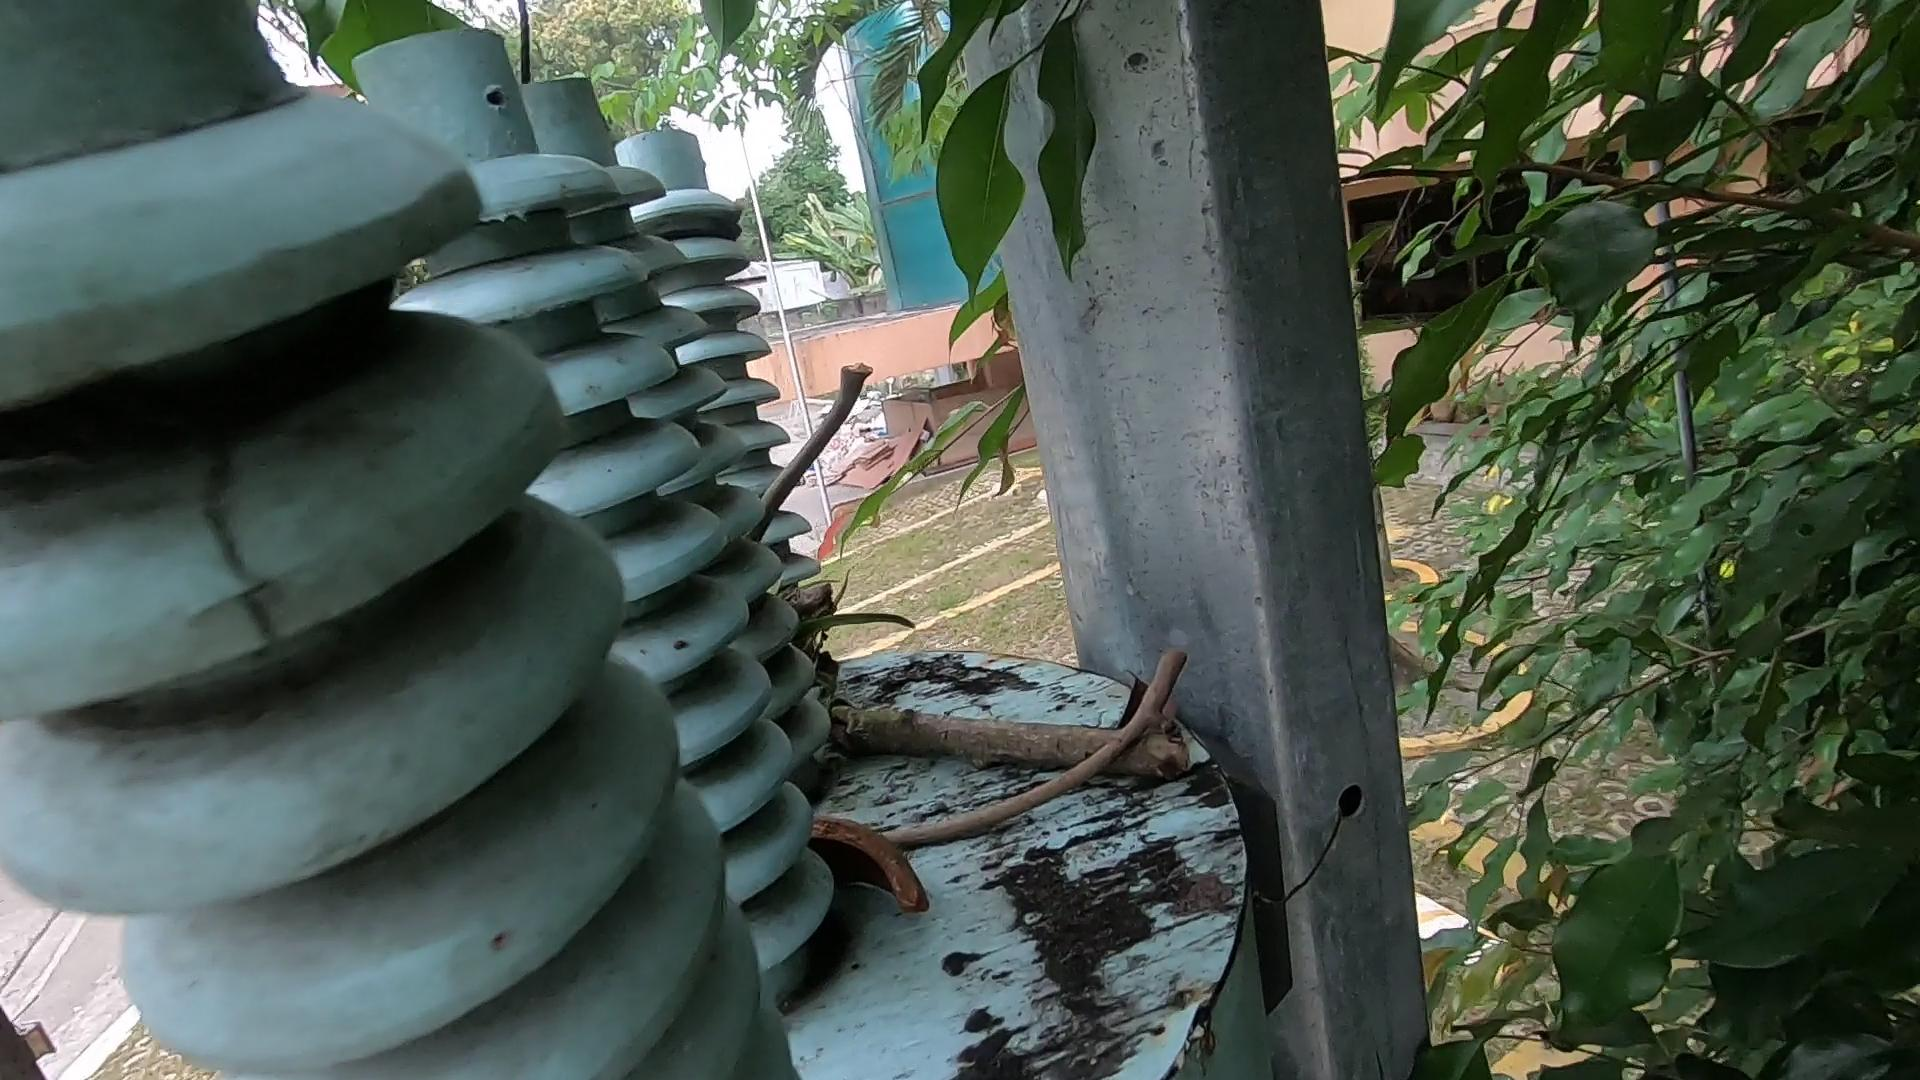branch with leaves: (703, 517, 1265, 774)
mahogany fruit: (793, 785, 949, 907)
tree branch: (864, 659, 1166, 899), (729, 315, 868, 588)
